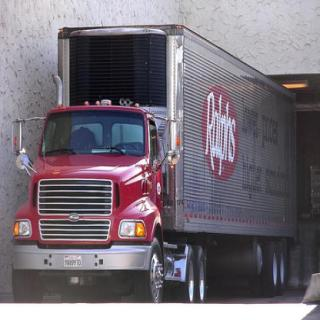Normal_vehicle: (9, 18, 299, 304)
